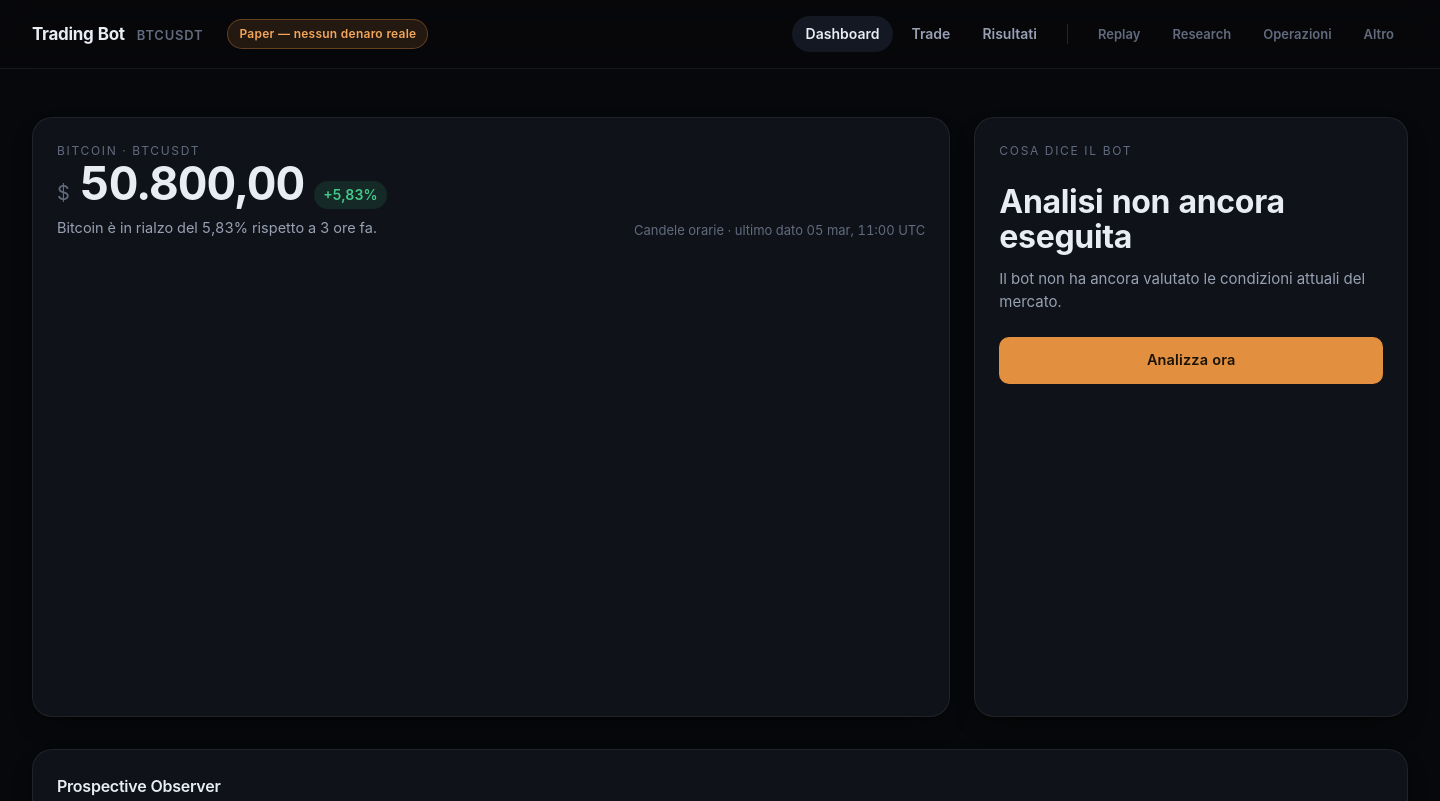
analisi › spiega quando l’analisi non è conclusa per dati incompleti
Expected: the text "Analisi non ancora eseguita" is shown, 999,182 -> 1285,256
What coordinates should you click on to do the following:
click the button "Analizza ora"
I would click on:
 (1191, 360)
Its box is 999,337 -> 1383,384.
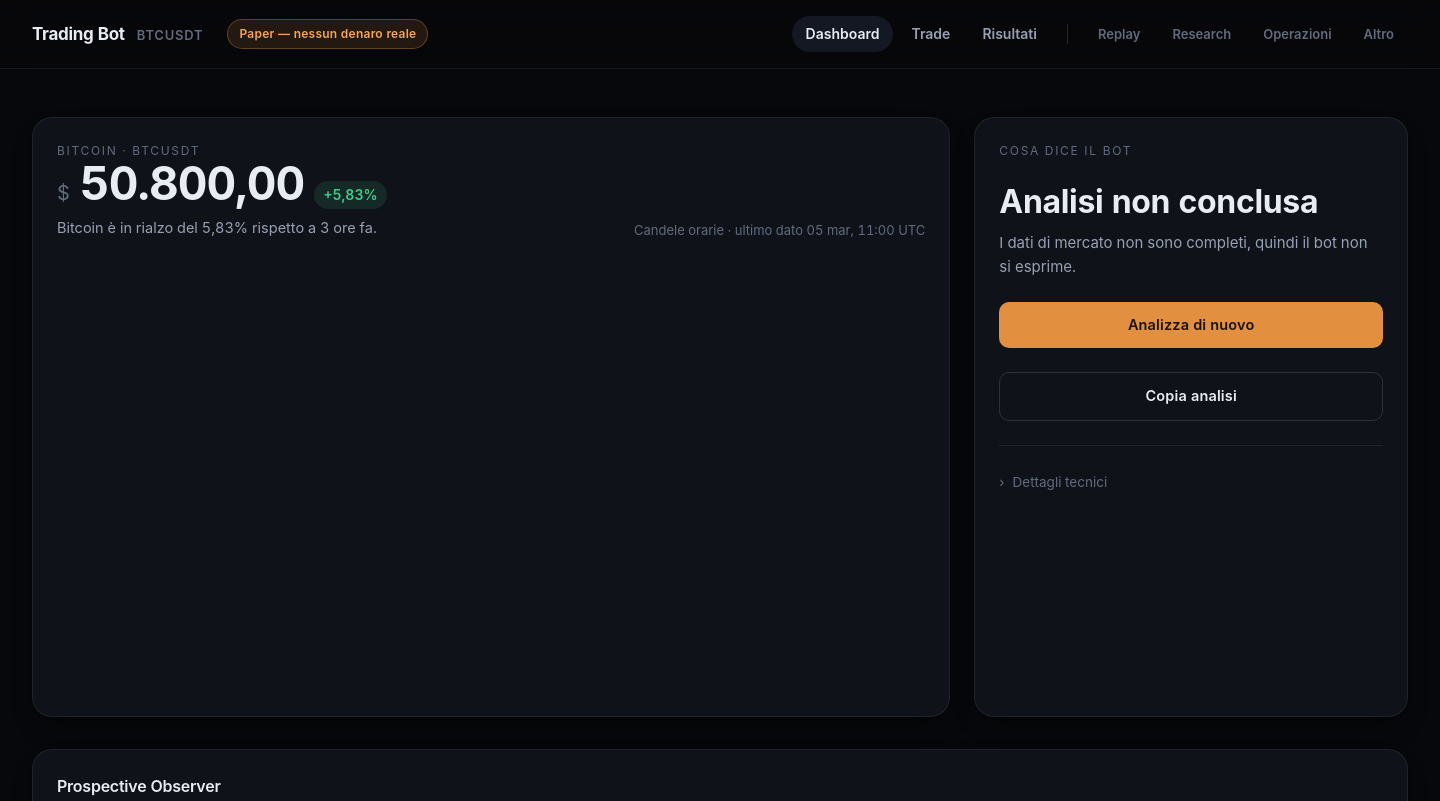
Expected: the text "Analisi non conclusa" is shown, 999,182 -> 1318,221
